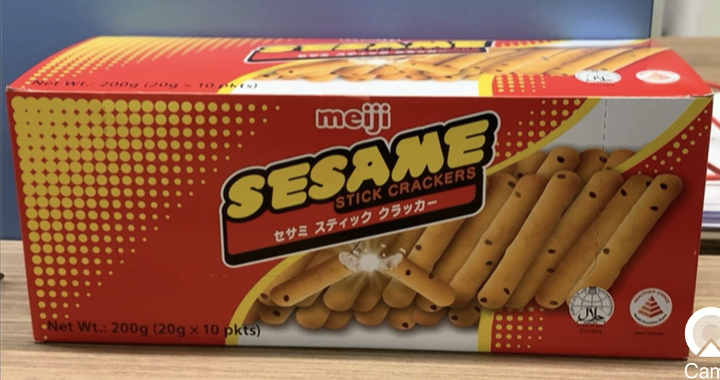crackers_150g: (39, 67, 682, 344)
